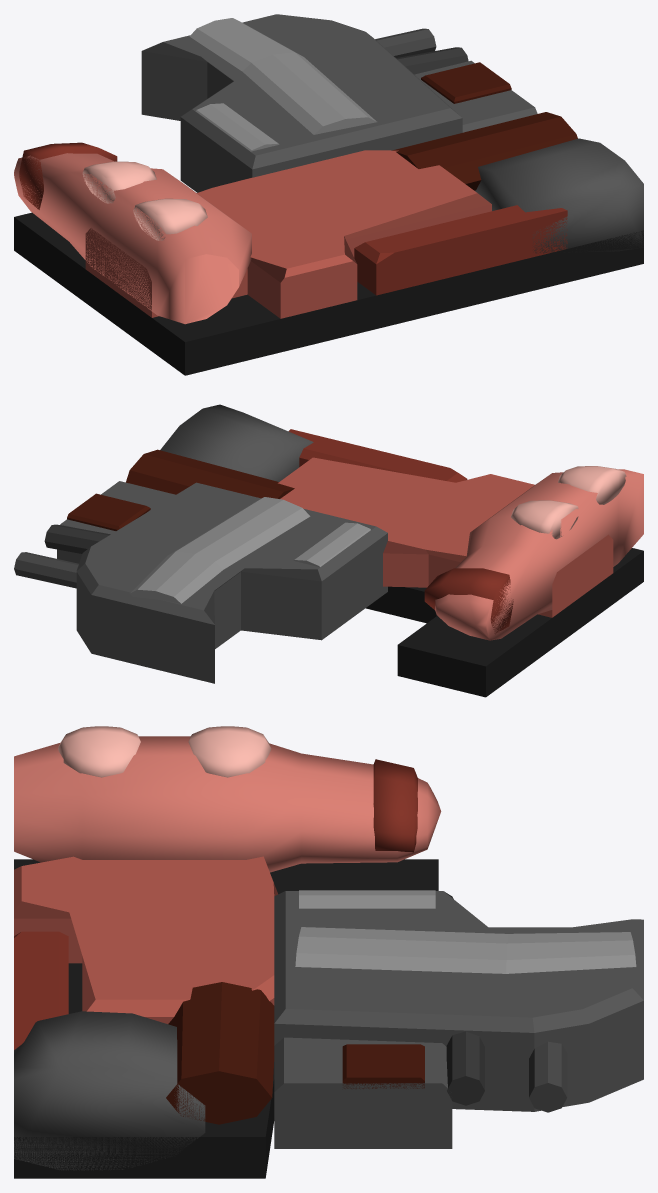
File: newsh-caret-87.glb
3 views of the same model, one above another, from view 1: azimuth 30°, elevation 25°; view 2: azimuth 150°, elevation 25°; view 3: azimuth 270°, elevation 25° (orthographic). The views are drawn at different scales.
Visible parts, largest first — view 1: newsh-caret-87; view 2: newsh-caret-87; view 3: newsh-caret-87.
Part boxes in pixels (x1=…): newsh-caret-87: x1=14, y1=14, x2=643, y2=375; newsh-caret-87: x1=14, y1=404, x2=643, y2=697; newsh-caret-87: x1=14, y1=726, x2=643, y2=1178.
Bounding box in the file's own units: 2 × 0.59 × 1.92.
